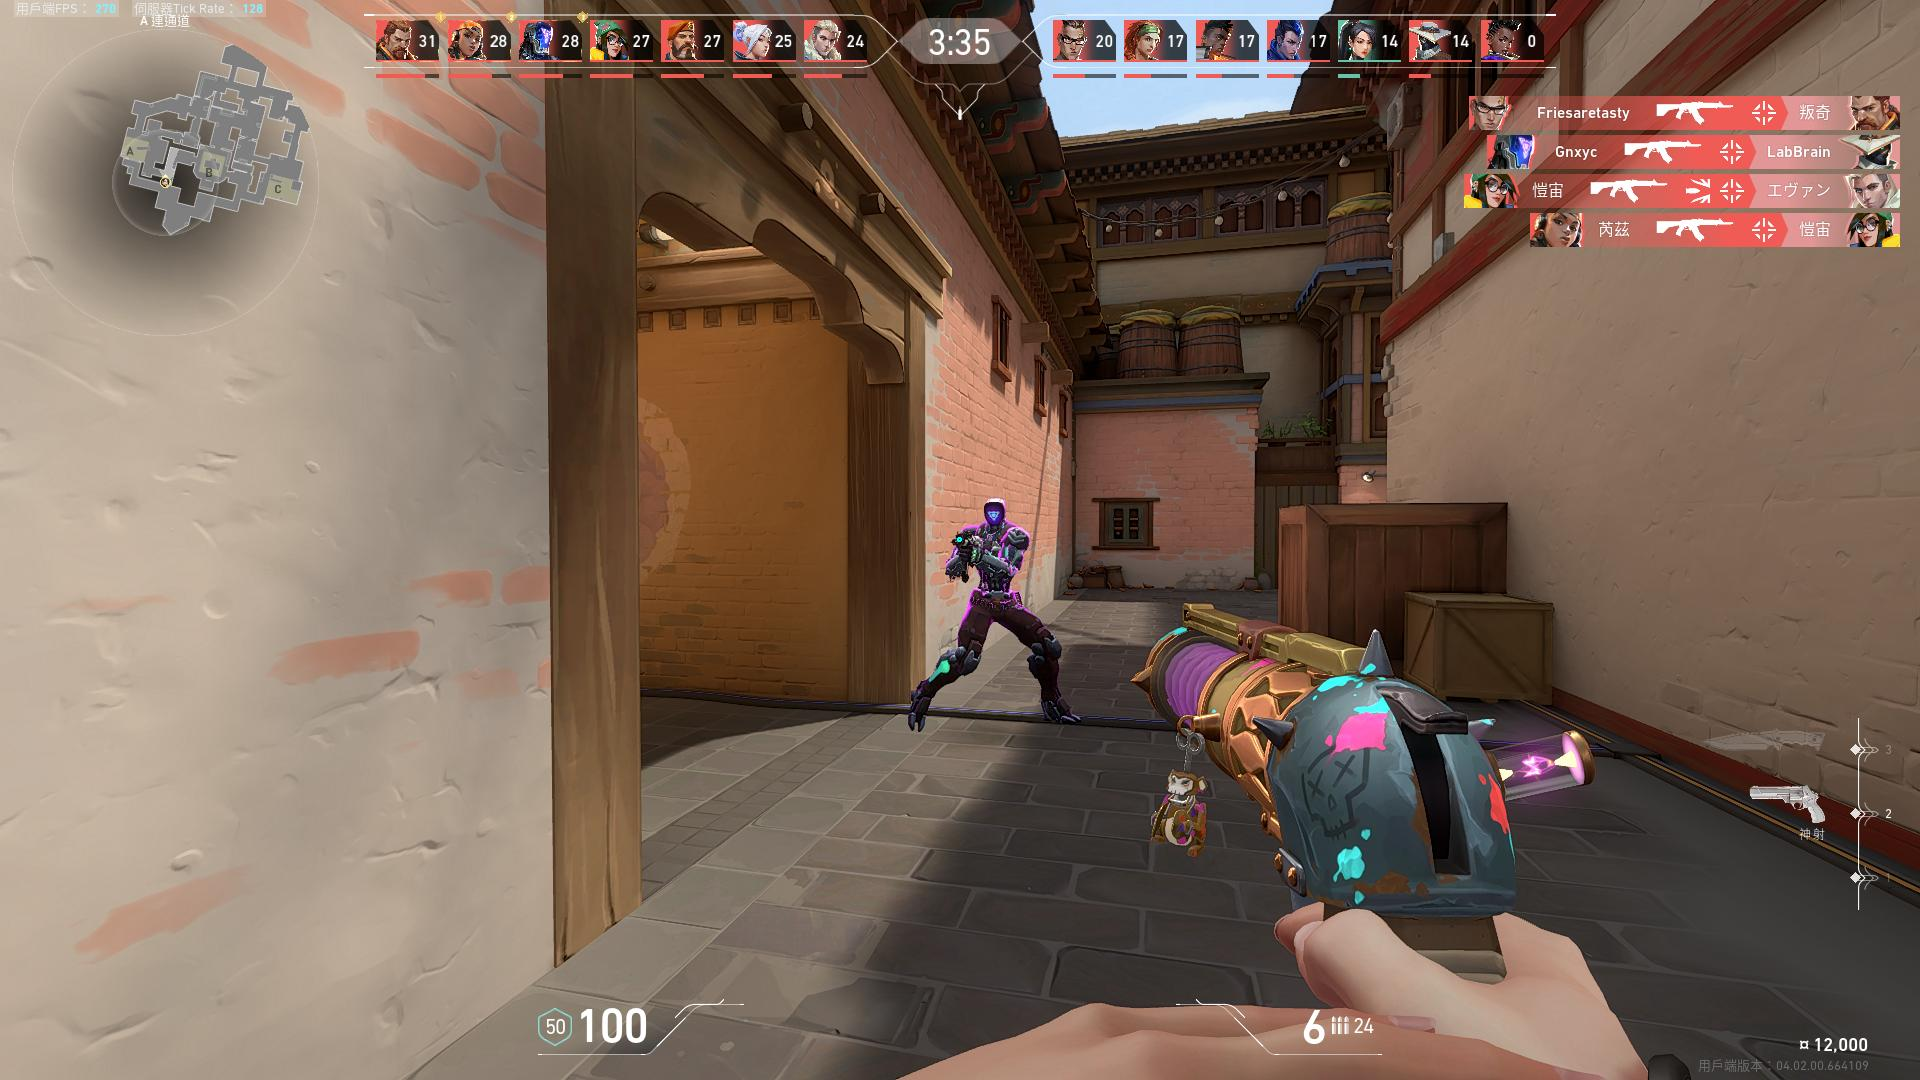enemyBody: (980, 531, 1006, 591)
enemyHead: (986, 504, 1004, 526)
